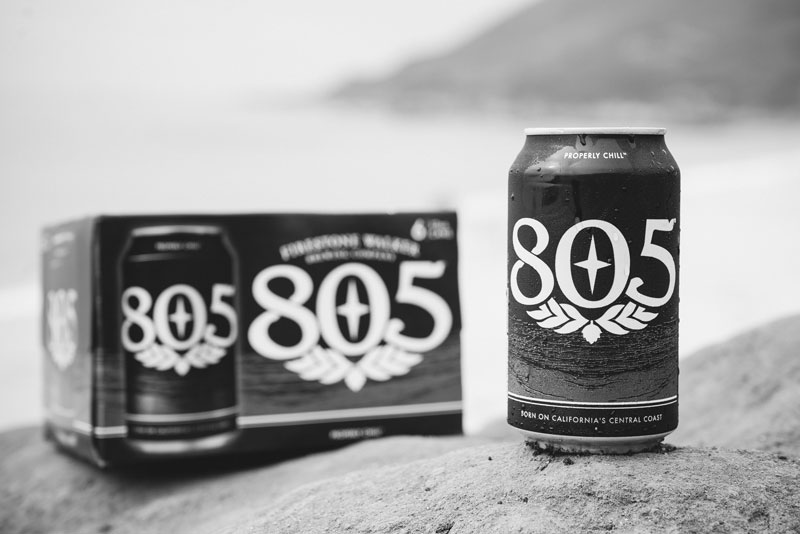beer can: (507, 124, 681, 460), (119, 223, 239, 454)
